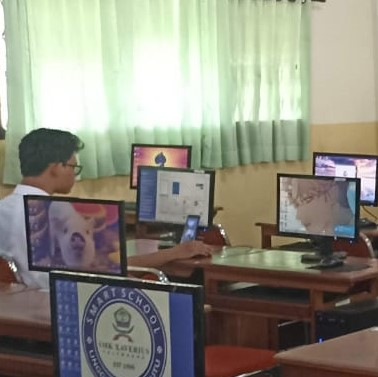monitor: (49, 270, 205, 373), (23, 195, 128, 279), (275, 173, 361, 244), (136, 165, 216, 233), (312, 152, 378, 207), (130, 144, 192, 190), (179, 214, 201, 244)
